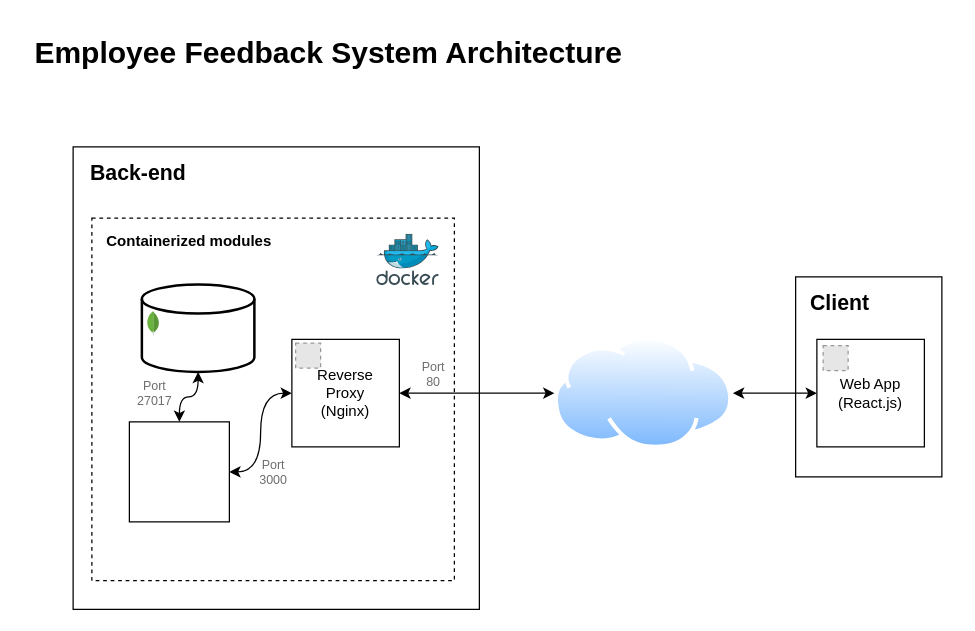
This 975x631 diagram has some shape labels left out. Grey dashed boxes stand in for pictures. The centre of each missing label's shape, as x and y in pixels:
Database (MongoDB): the point at 197,327
Internet: the point at 643,392
Server (Koa.js): the point at 178,471
